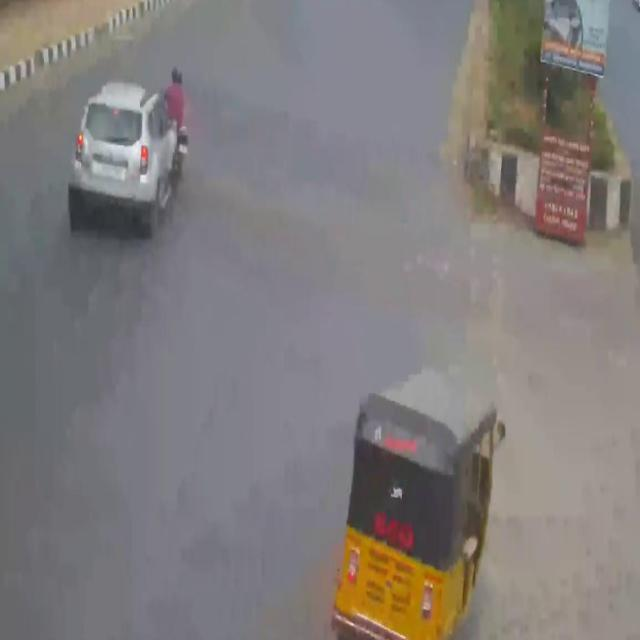accident: (68, 50, 194, 250)
